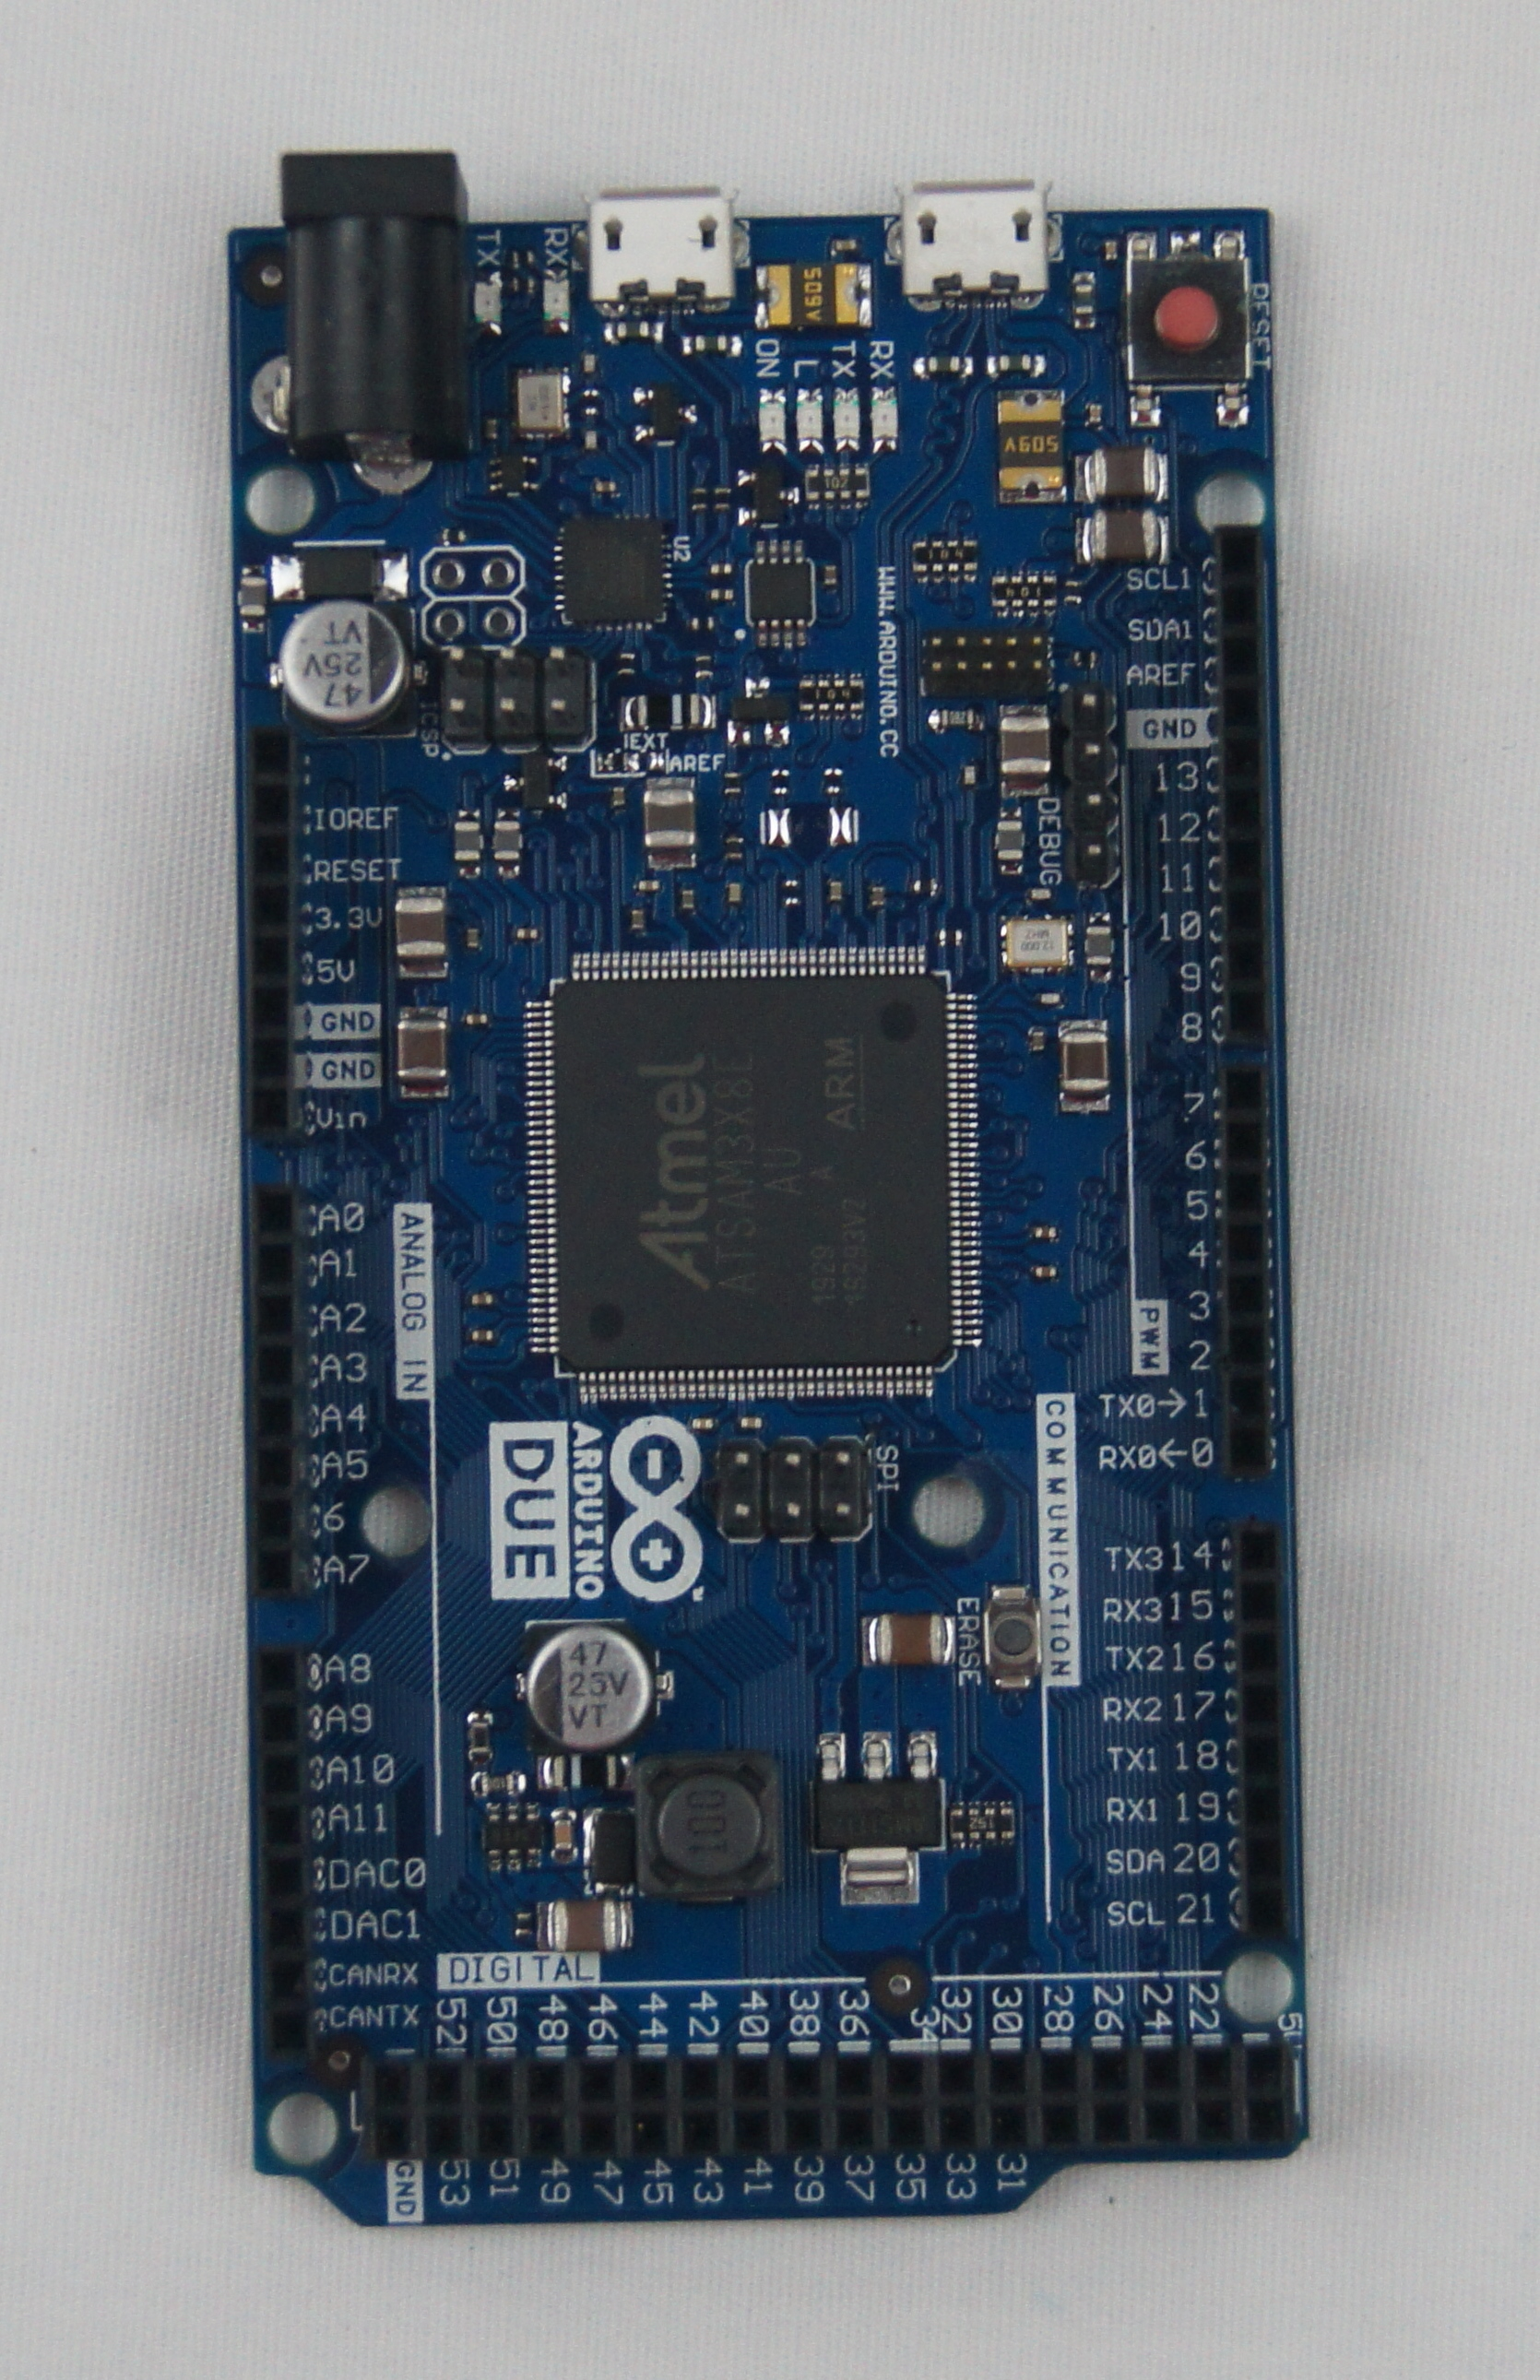connector: (361, 2047, 1306, 2160), (271, 141, 480, 467), (1210, 522, 1282, 1048), (1212, 1060, 1287, 1478), (248, 1641, 317, 2066), (245, 1181, 312, 1601), (1237, 1520, 1301, 1945), (245, 722, 303, 1136), (434, 645, 600, 751), (716, 1435, 867, 1537), (1067, 680, 1124, 886), (921, 626, 1054, 692), (423, 600, 517, 644), (432, 557, 519, 593)
